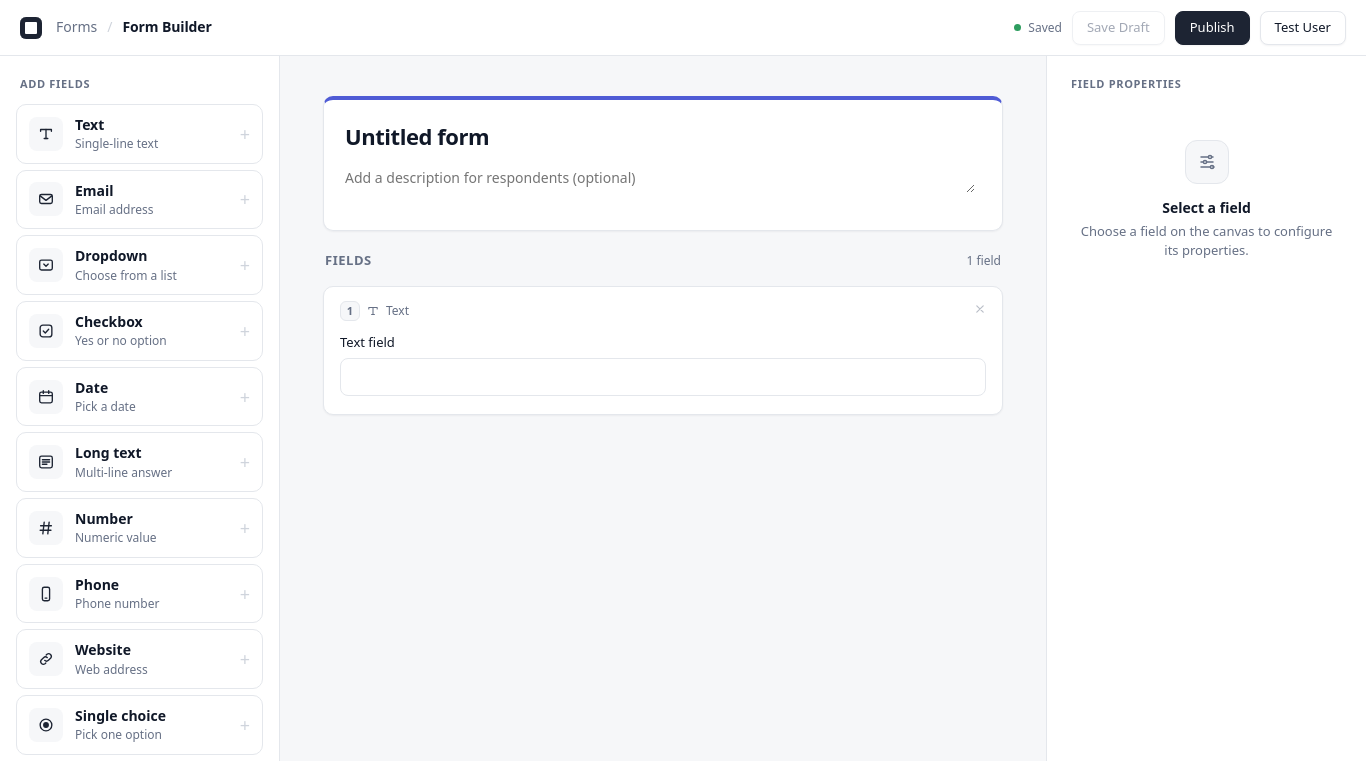
Test: Publish with a persisted form › shows the server's publish error and stays Draft
This screenshot has width=1366, height=761.
Click the button "Publish". click: coordinates (1212, 28)
box: [1175, 10, 1250, 44]
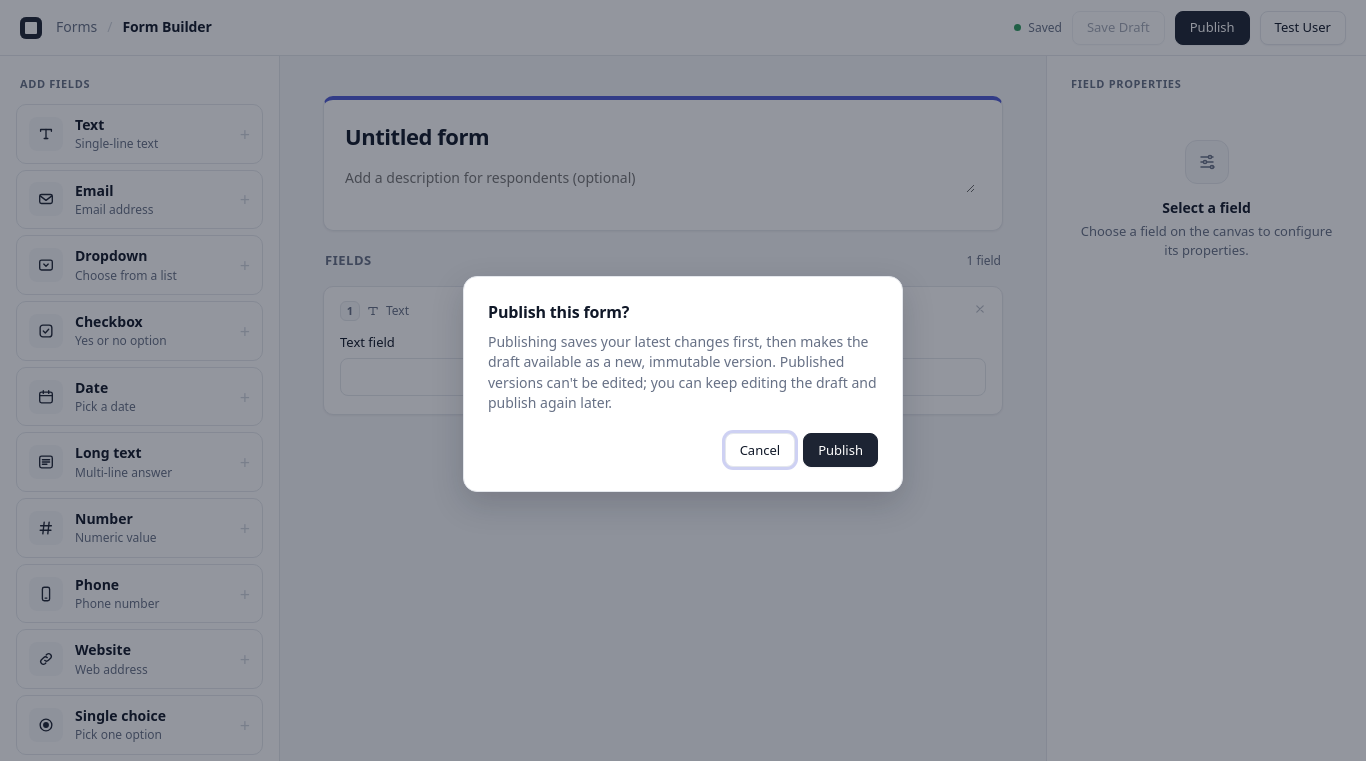
Click the button with class "fb-button-primary" below "Publish this form?". click: coordinates (841, 450)
box: [803, 433, 878, 467]
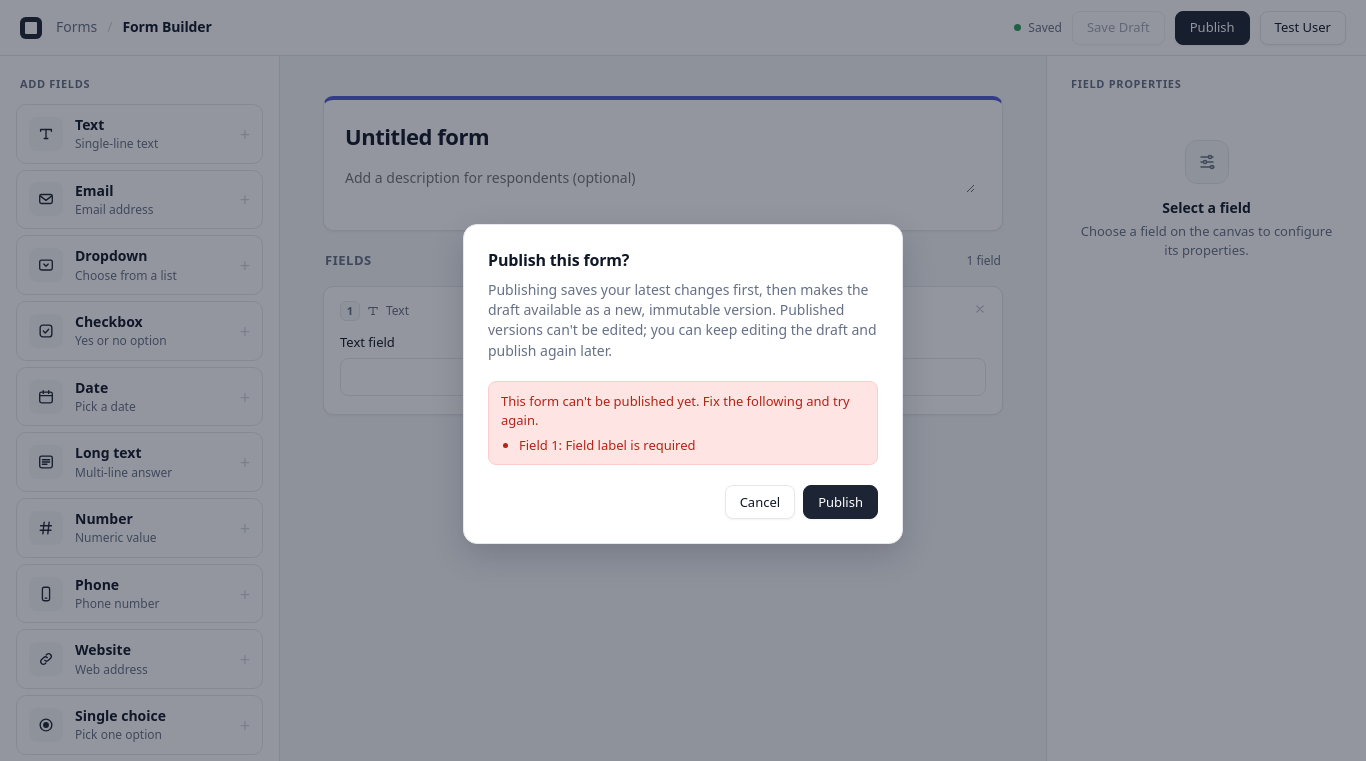
Check: the 2nd message shows "Field 1: Field label is required", box [519, 436, 696, 454]
